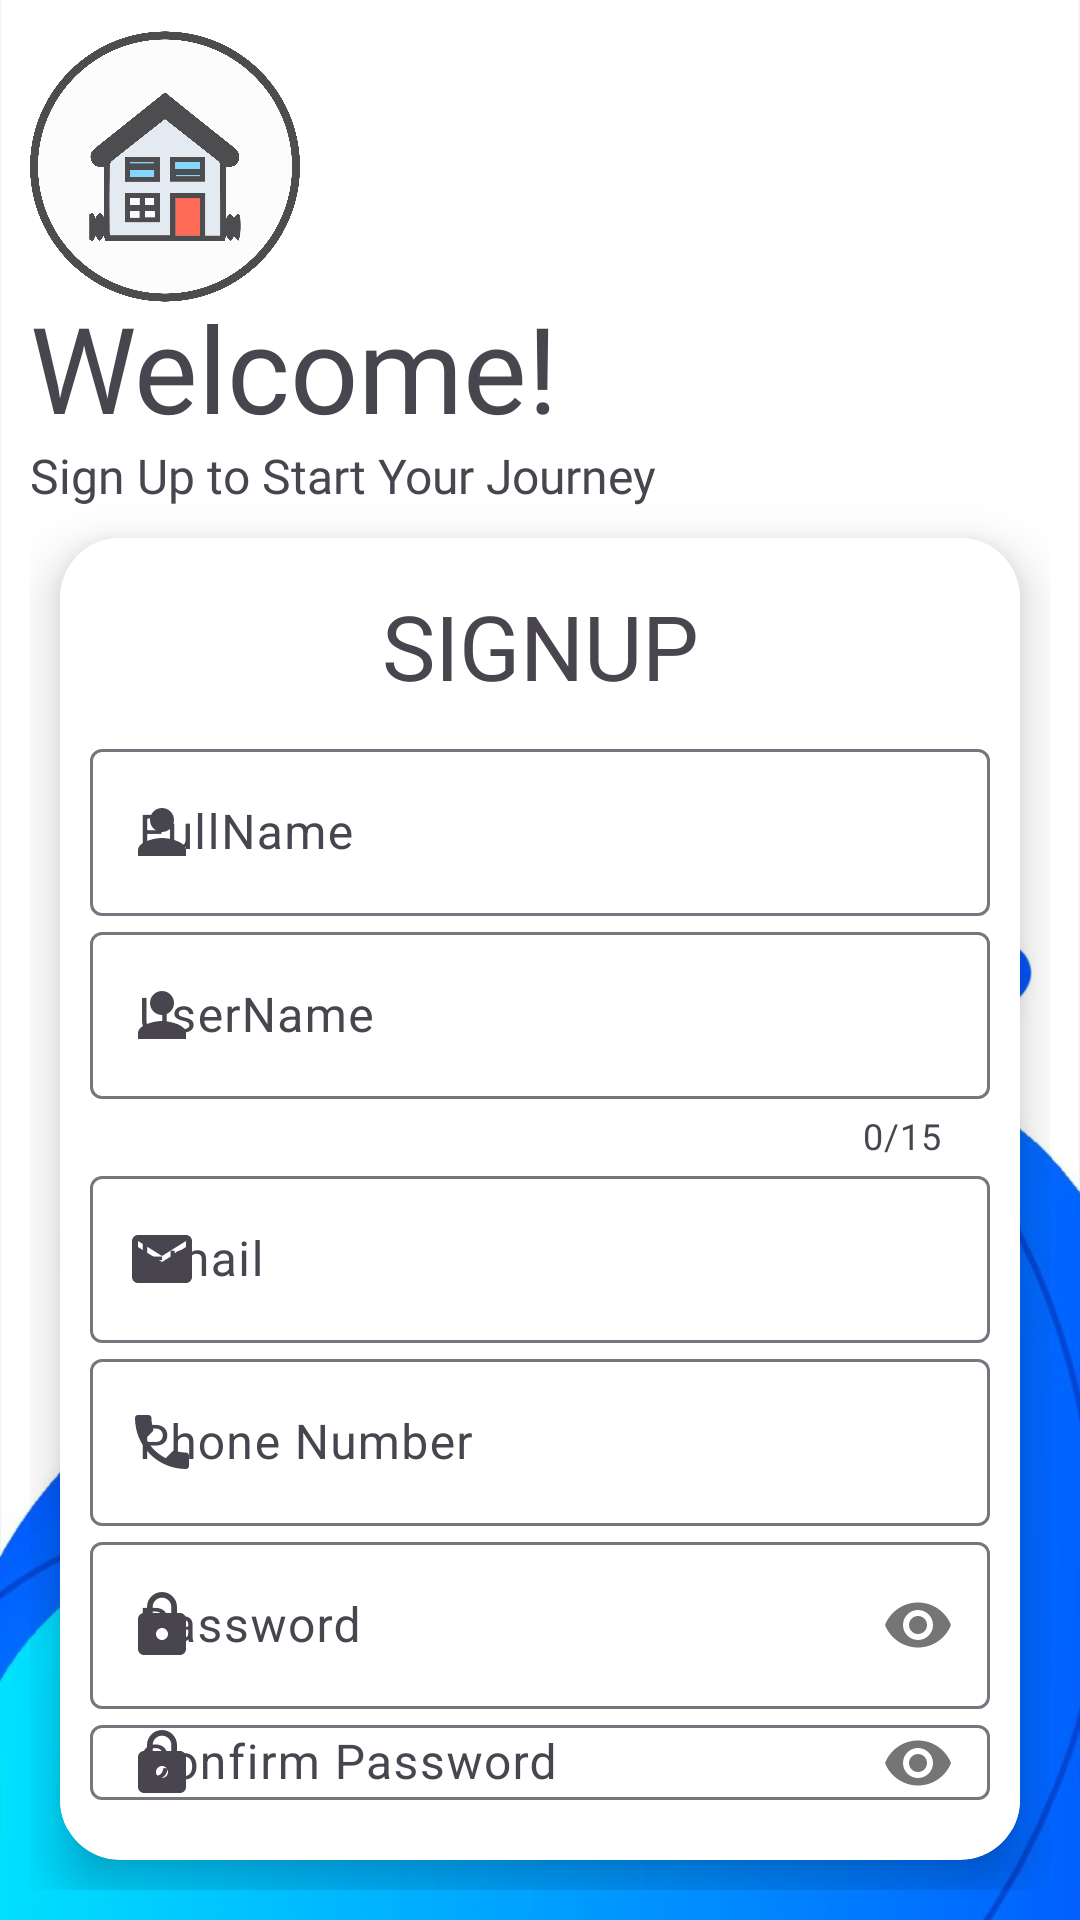

Icon bounding boxes for this 1080x1920 phone screenshot, format [x1, y1, x2, y2]:
housing: [30, 31, 300, 302]
